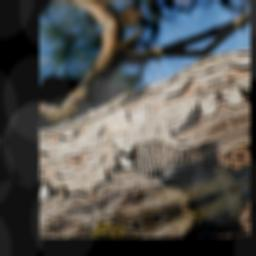Woodpecker: (108, 104, 231, 196)
